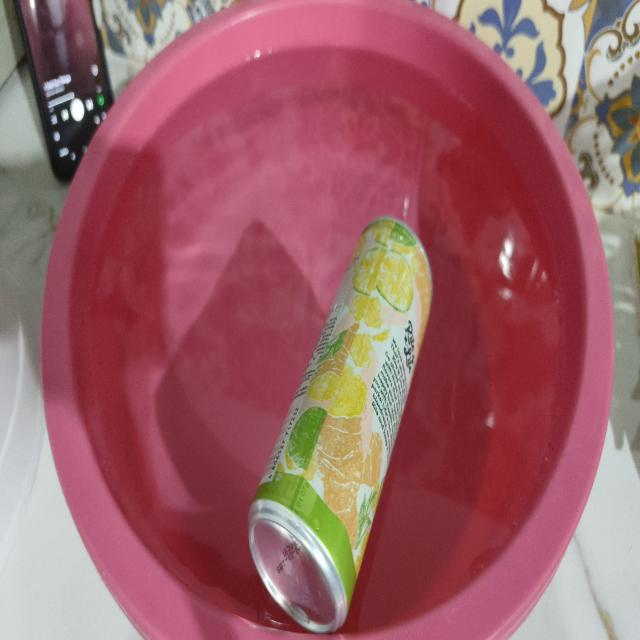Aluminum Can: (233, 197, 456, 640)
